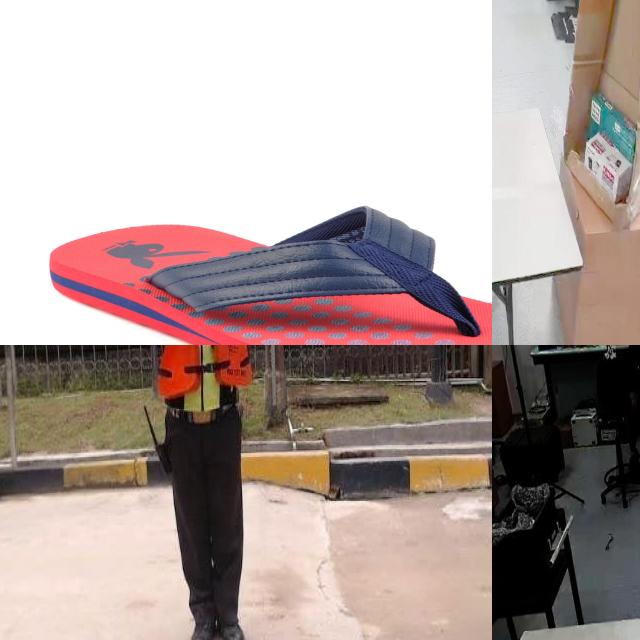Sandals: (46, 203, 492, 345)
boots: (190, 612, 217, 640), (221, 612, 248, 640)
person: (46, 345, 329, 640), (616, 345, 640, 484)
vest: (159, 345, 254, 412)
